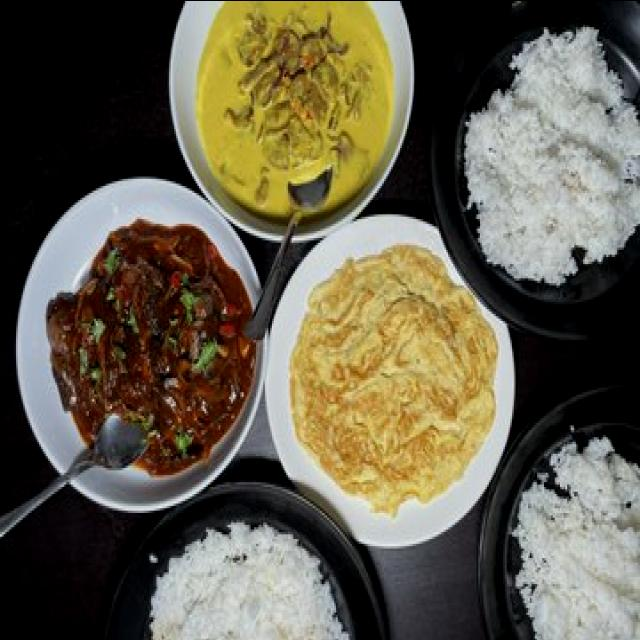telur dadar: (290, 244, 500, 517), (455, 26, 640, 289), (508, 424, 640, 640), (151, 521, 354, 640)
